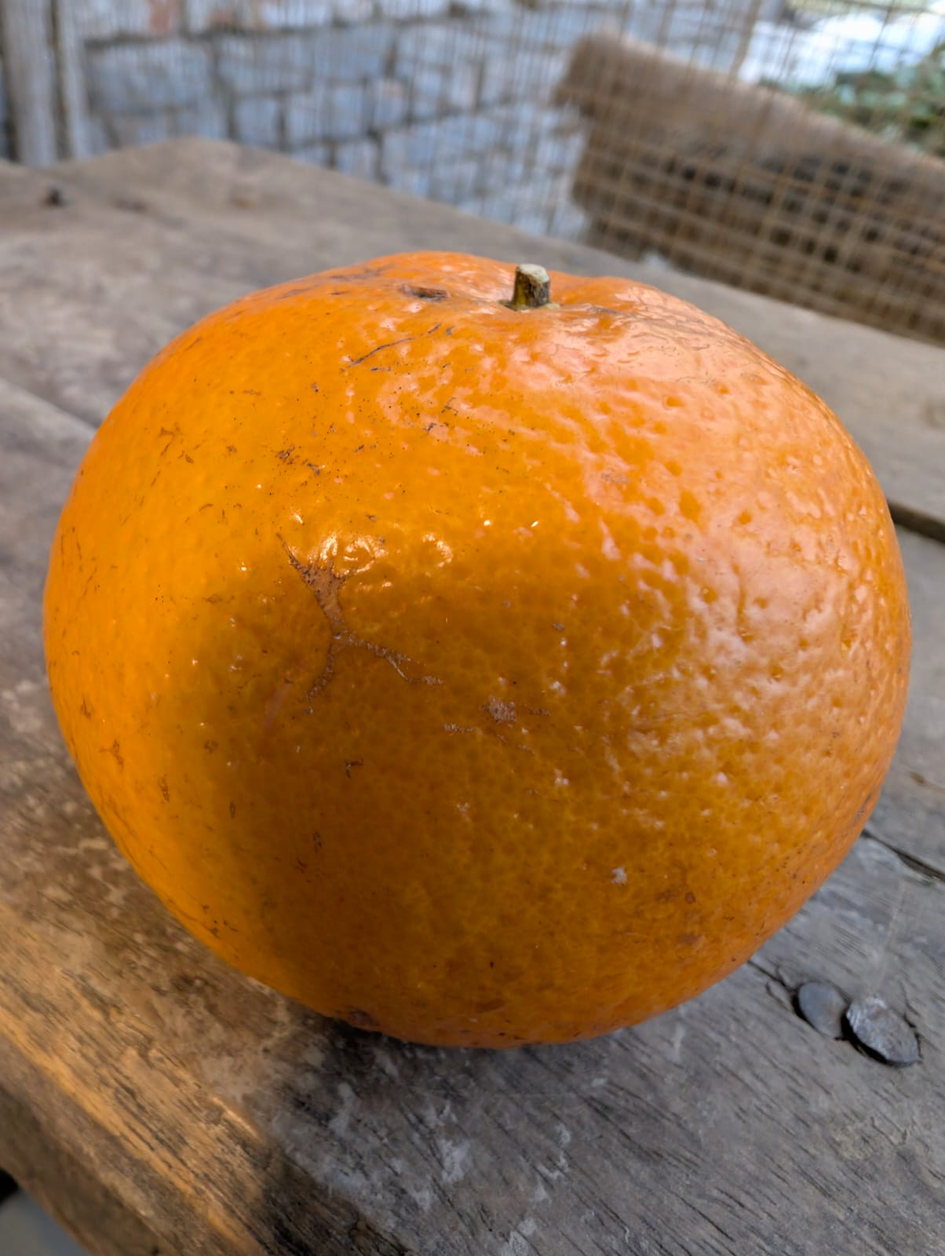orange: (84, 179, 776, 1031)
